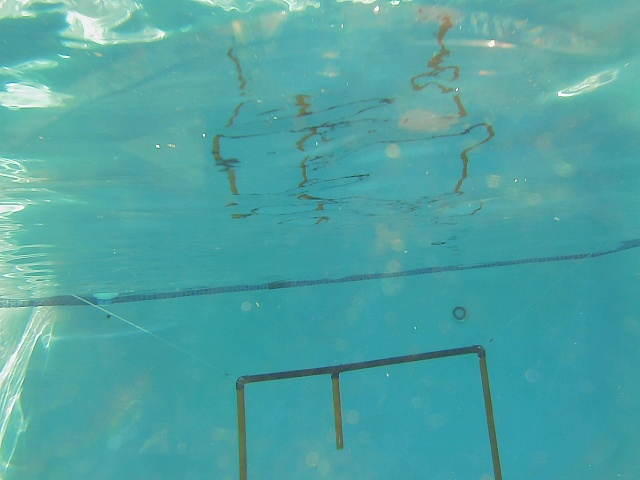Gate: (472, 351, 505, 480), (234, 380, 251, 479), (332, 371, 346, 453)
